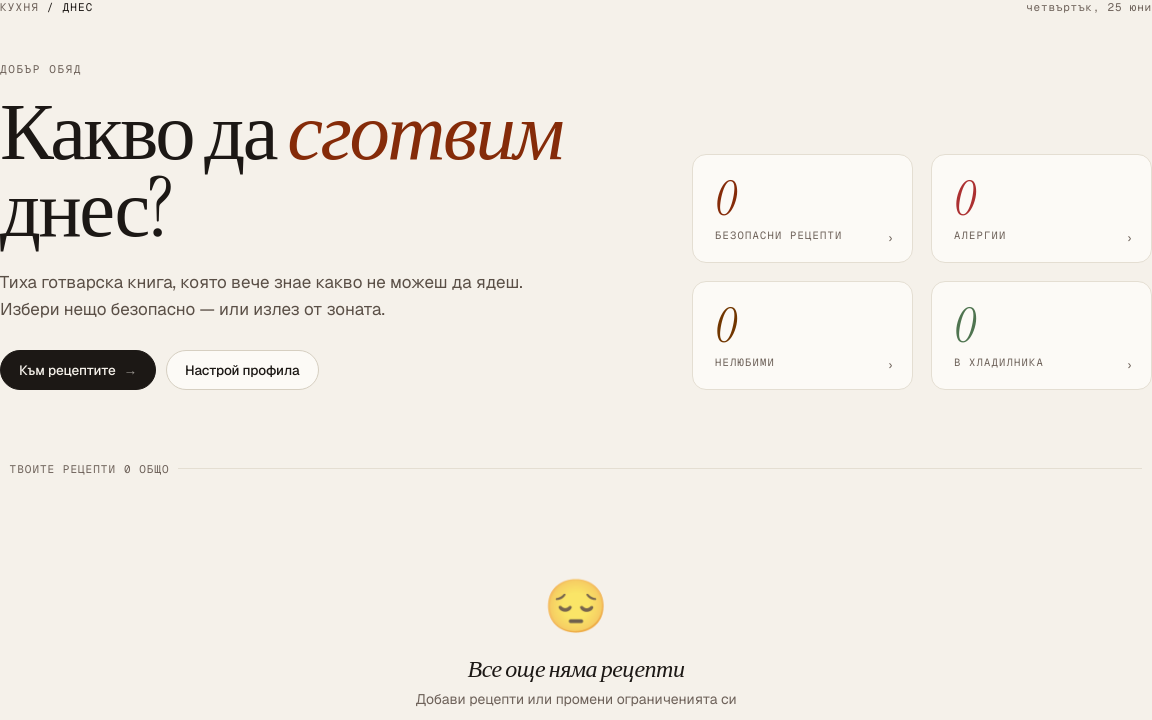
Test: HomeScreen – stat card modals › opens safe recipes modal when safe recipes stat is clicked
Click the text "безопасни рецепти".
click(779, 235)  # box [715,228,842,242]
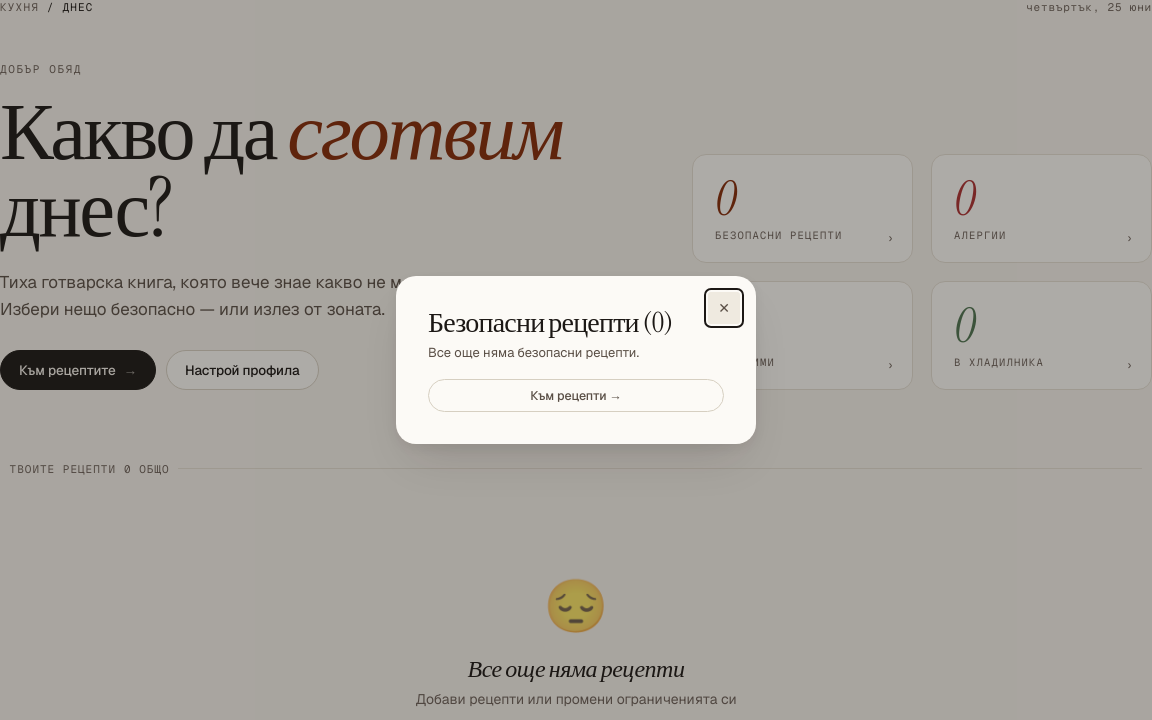
Now the text "Безопасни рецепти (0)" is shown, box [428,304,672,341]
